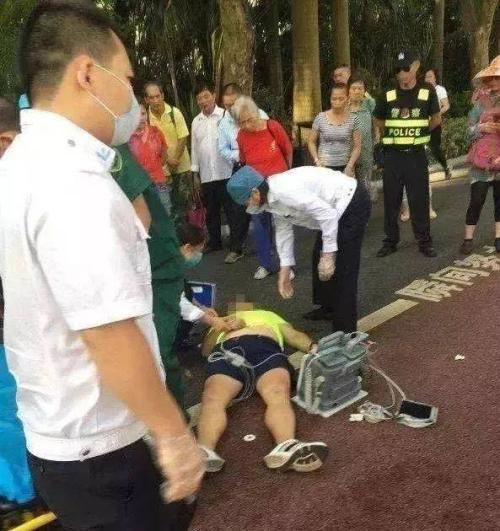10+: (1, 1, 500, 531)
down: (185, 295, 334, 478)
